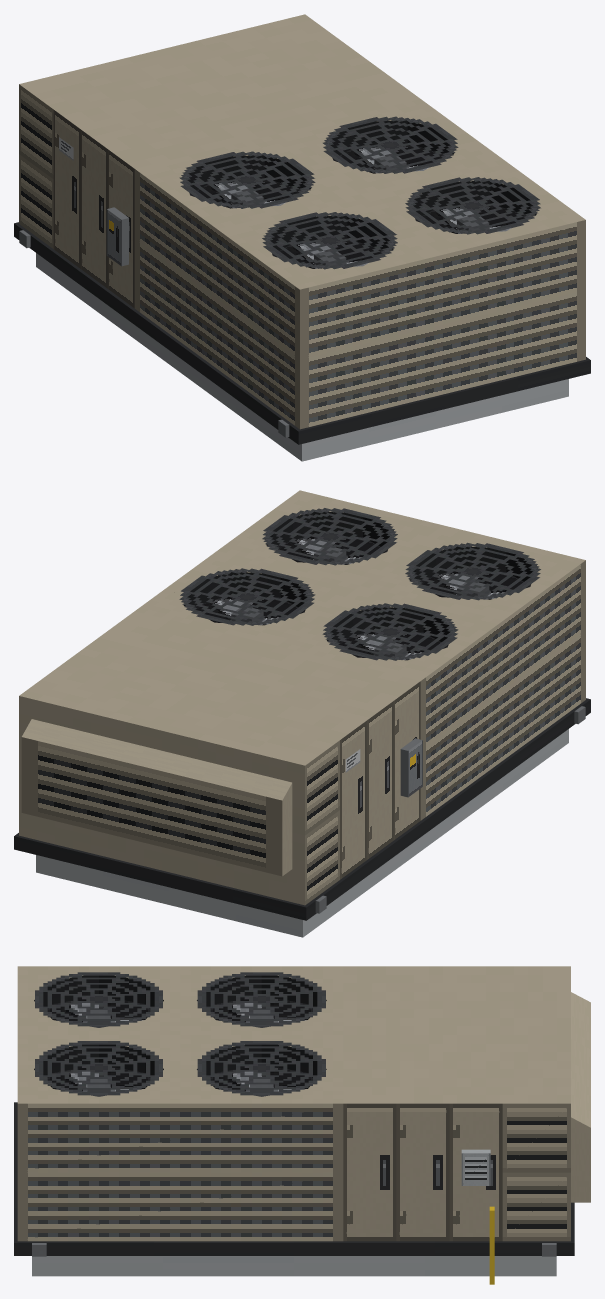
File: rtu_large_item.obj
The picture shows the model from 3 angles, top to bottom: view 1: azimuth 30°, elevation 25°; view 2: azimuth 150°, elevation 25°; view 3: azimuth 270°, elevation 25°; orthographic projection.
Visible parts, largest first — view 1: unit; view 2: unit; view 3: unit.
Part boxes in pixels (left/top/right/bottom): unit: left=14, top=14, right=590, bottom=461; unit: left=14, top=490, right=590, bottom=937; unit: left=14, top=966, right=590, bottom=1284.
Size of the model in its own units: 0.5584 by 0.3198 by 0.9375.
